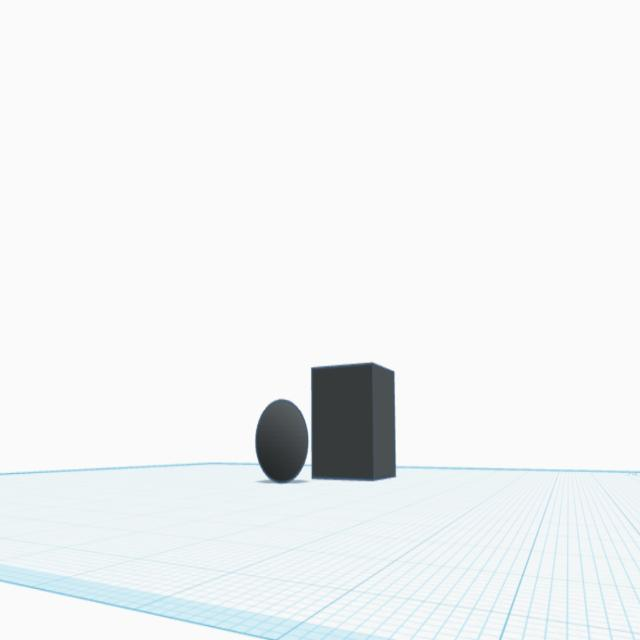cube: (309, 360, 402, 484)
sphere: (255, 392, 309, 486)
